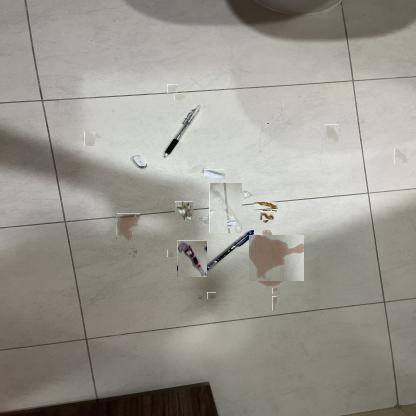dirty: (204, 186, 247, 228), (177, 240, 207, 277), (175, 202, 194, 220), (203, 169, 225, 178), (254, 202, 278, 210), (262, 210, 273, 222), (226, 219, 236, 229)
liquid: (251, 232, 302, 284), (116, 213, 140, 240), (324, 126, 341, 142), (394, 149, 410, 164), (83, 132, 97, 145), (167, 84, 178, 93), (272, 296, 277, 311), (174, 94, 185, 100), (207, 292, 216, 299), (128, 249, 136, 256), (167, 250, 175, 257), (272, 288, 281, 294)
